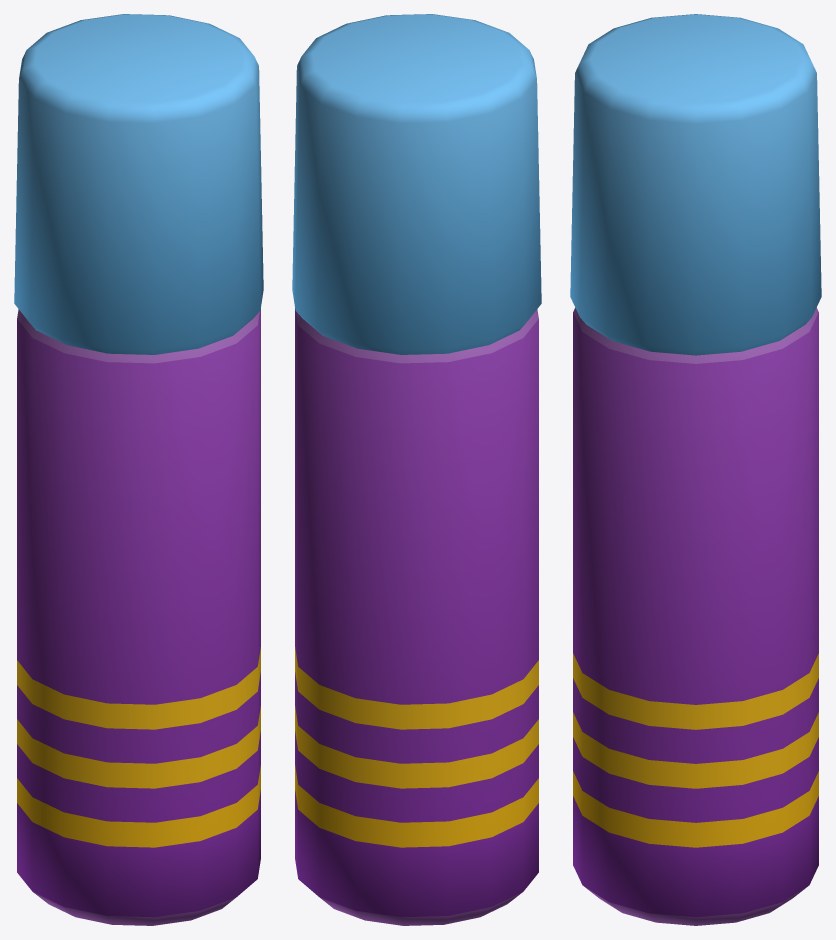
Rendered from Cream_05.glb.
3 views of the same model, side by side, from view 1: azimuth 30°, elevation 25°; view 2: azimuth 150°, elevation 25°; view 3: azimuth 270°, elevation 25° (orthographic).
Visible parts, largest first — view 1: Cream_05; view 2: Cream_05; view 3: Cream_05.
Part boxes in pixels (left/top/right/bottom): Cream_05: left=14, top=14, right=263, bottom=925; Cream_05: left=292, top=14, right=541, bottom=925; Cream_05: left=570, top=14, right=821, bottom=925.
Size of the model in its own units: 0.0693 by 0.2502 by 0.0693.
2 materials, 2 textured.
